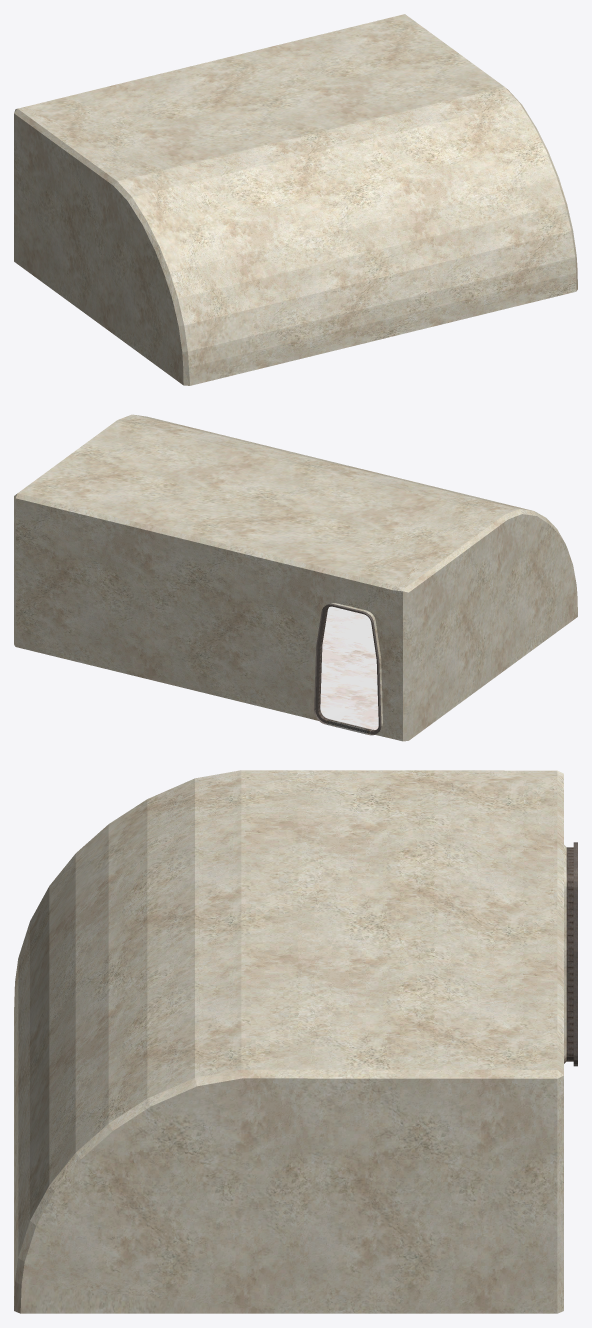
File: thm_tato_assoc_hall_civ_s02_r21_bedroom8_mesh_r21.fbx
3 views of the same model, one above another, from view 1: azimuth 30°, elevation 25°; view 2: azimuth 150°, elevation 25°; view 3: azimuth 270°, elevation 25° (orthographic). The views are drawn at different scales.
Visible parts, largest first — view 1: mesh_node; view 2: mesh_node; view 3: mesh_node.
Boxes of the visible parts, x1,y1,x2,y2 form: mesh_node: (14, 14, 577, 385); mesh_node: (14, 414, 577, 741); mesh_node: (14, 770, 577, 1313).
Size of the model in its own units: 10.87 by 4.01 by 8.49.
